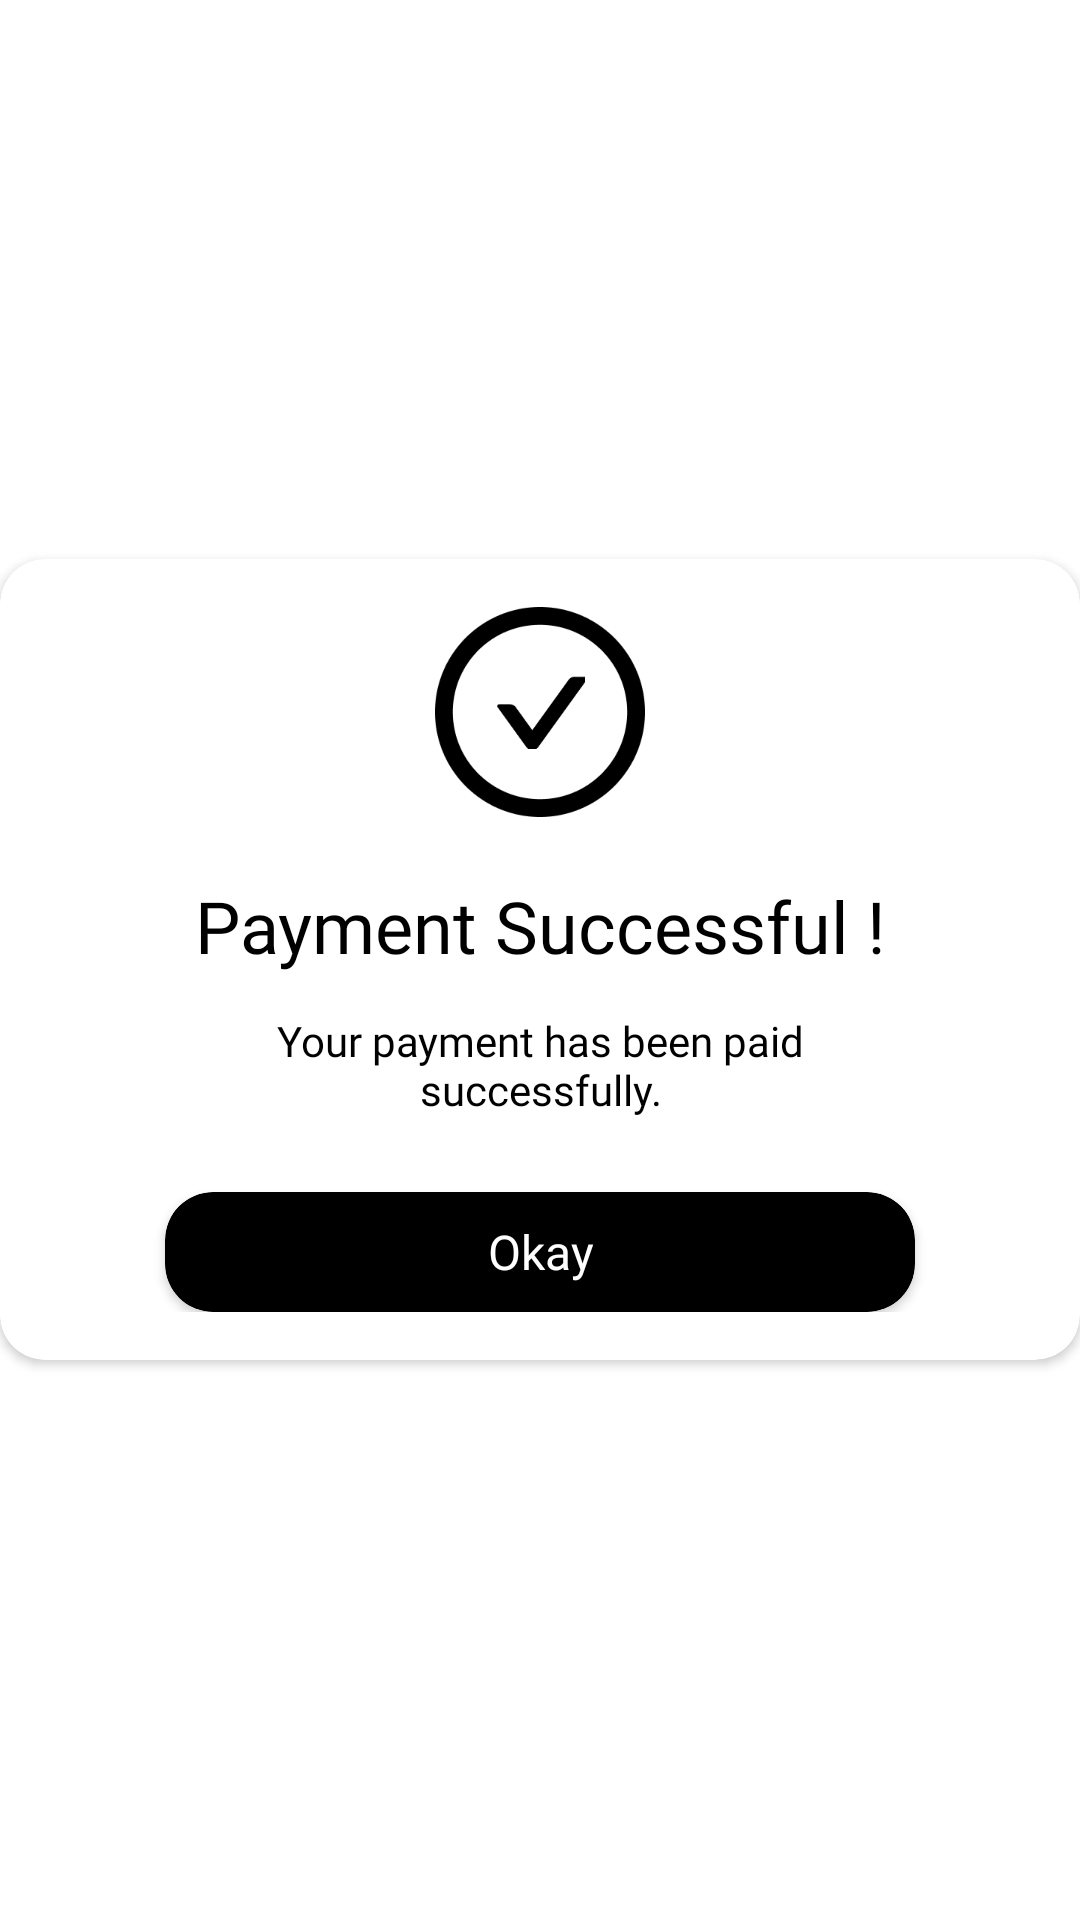

Point at icon controls on the screen. Image size 1080 x 1920, points as (x=x, y=y).
check arrow: (x=541, y=712)
